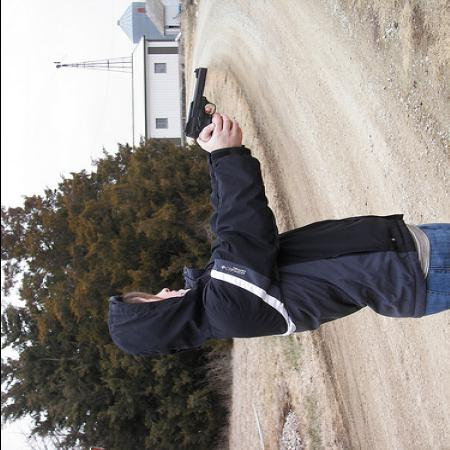Pistol: (180, 64, 221, 140)
